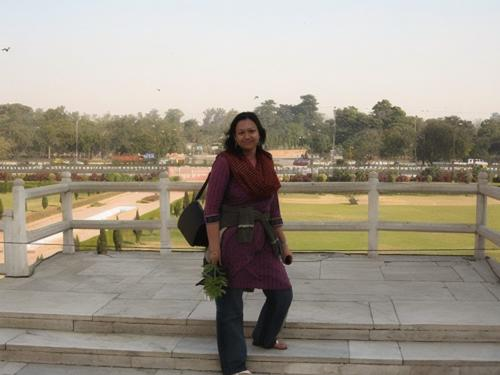person: (203, 113, 298, 375)
person/foot: (252, 341, 288, 350)
person/hand: (280, 245, 292, 263), (210, 260, 222, 277)
person/head: (233, 112, 260, 149)
pottedplant: (203, 258, 227, 318)
